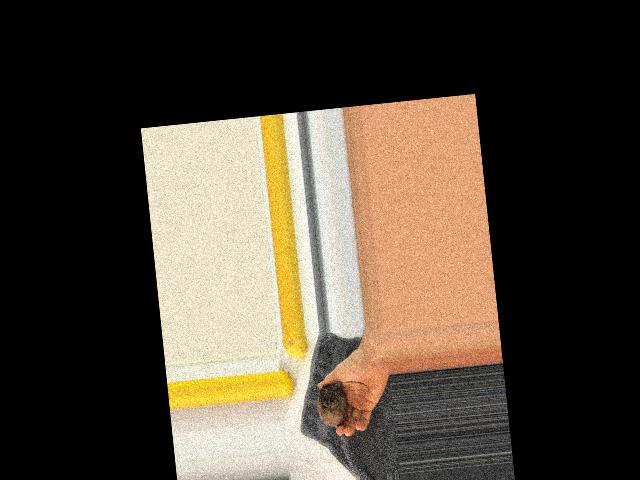beet: (315, 380, 372, 429)
